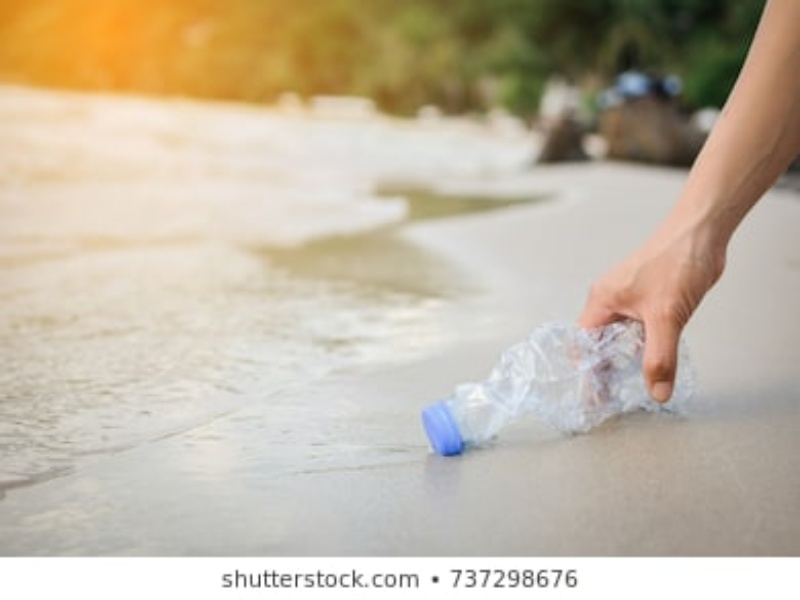bottle-cap: (416, 405, 467, 458)
plastic-bottle: (415, 318, 699, 449)
